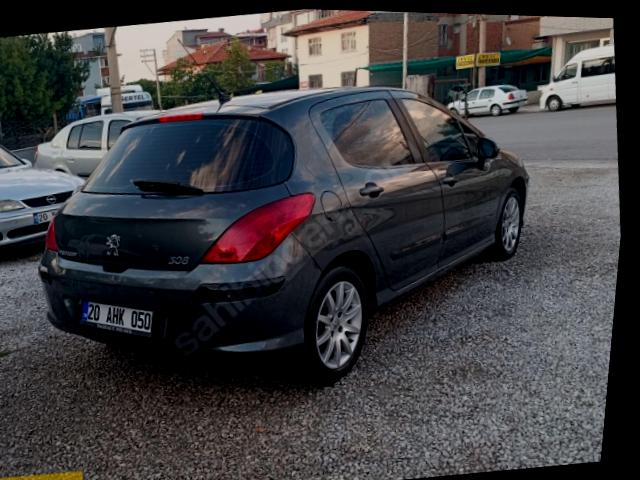plaka: (81, 301, 153, 336)
